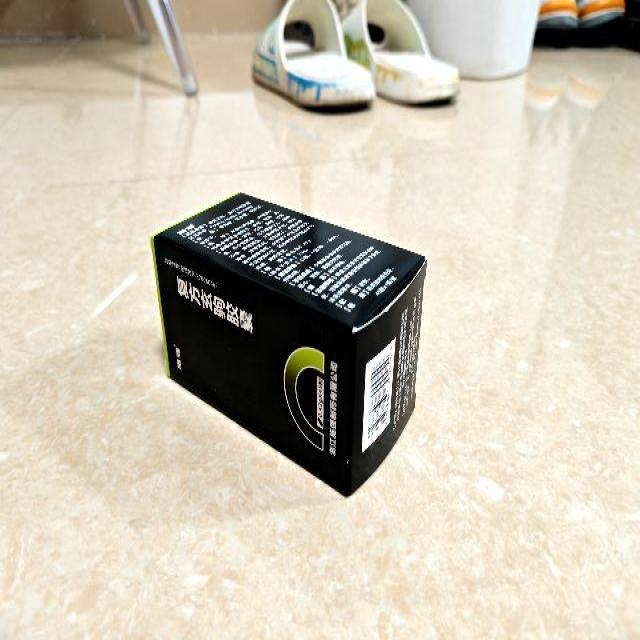box: (148, 188, 426, 494)
